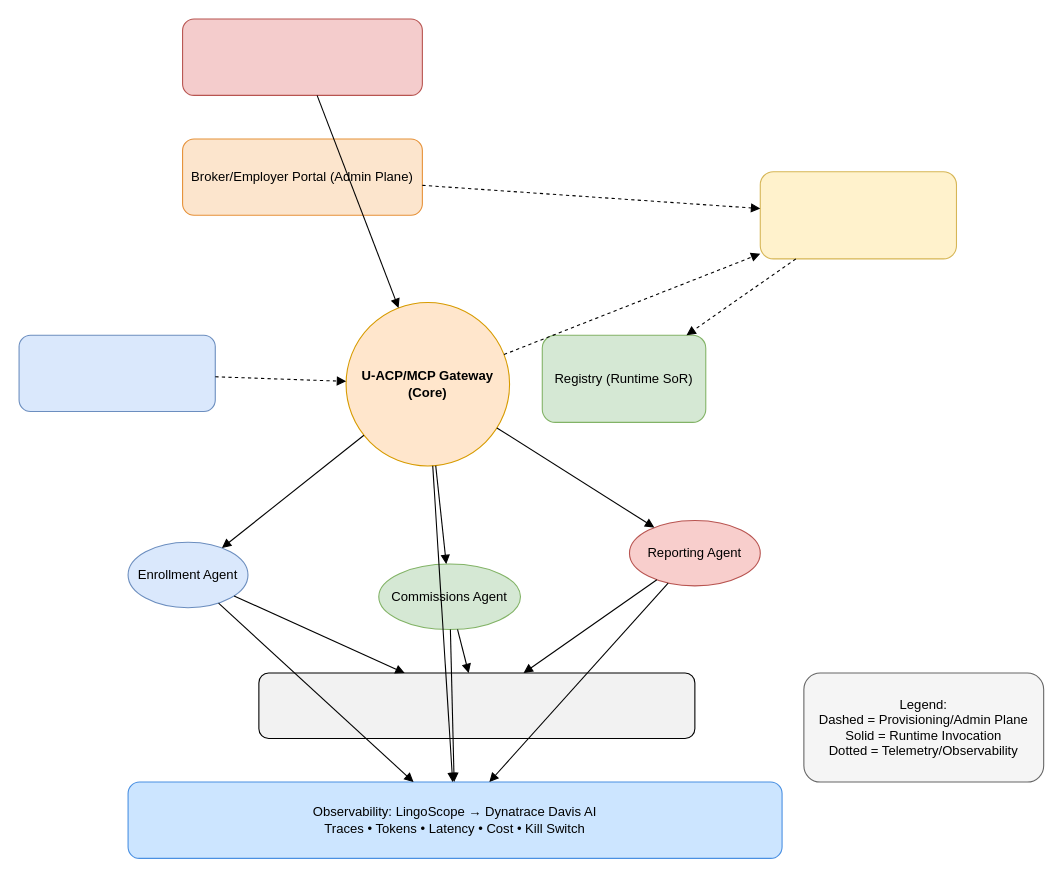
The diagram is 1063 pixels wide and 877 high, and some of its shapes have lost their labels. The shapes that lost their labels are listed below. From the top down, each one's box as (x1, y1, x2, y2) in pixels, then its label:
(181, 18, 422, 95): Broker/Employer Application (Runtime)
(759, 171, 956, 259): Marketplace (Discovery/Admin)
(18, 334, 215, 411): Developer / ADK + CI/CD
(258, 672, 695, 738): Data Connectors (Scoped Secrets, Policy‑Guarded)
